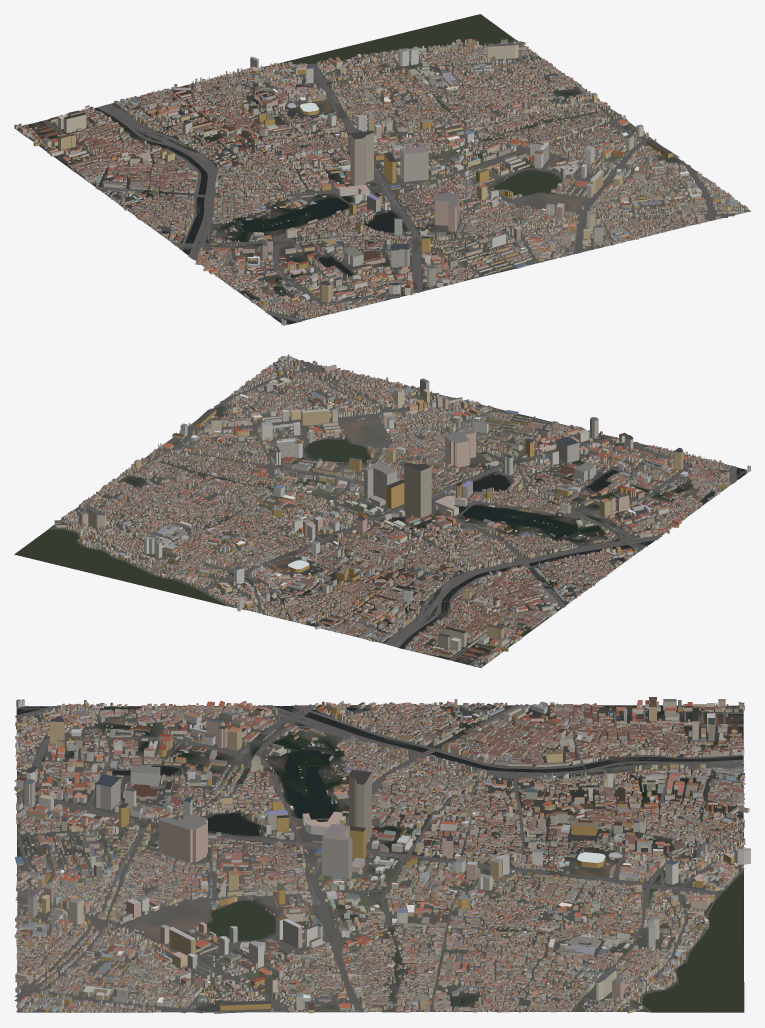
3 views of the same model, one above another, from view 1: azimuth 30°, elevation 25°; view 2: azimuth 150°, elevation 25°; view 3: azimuth 270°, elevation 25° (orthographic). The views are drawn at different scales.
Visible parts, largest first — view 1: buildings, ground, roads, water; view 2: buildings, ground, roads, water; view 3: buildings, ground, roads, water.
Part boxes in pixels (x1,y1,x2,y2): buildings: (14,38,748,325); ground: (14,15,750,325); roads: (28,39,750,324); water: (35,14,683,323); buildings: (54,354,750,667); ground: (14,358,745,667); roads: (49,356,746,665); water: (14,385,745,662); buildings: (14,697,750,1013); ground: (16,705,744,1012); roads: (14,704,744,1013); water: (17,706,743,1012).
Bounding box in the file's own units: 2838 × 277 × 2843.
